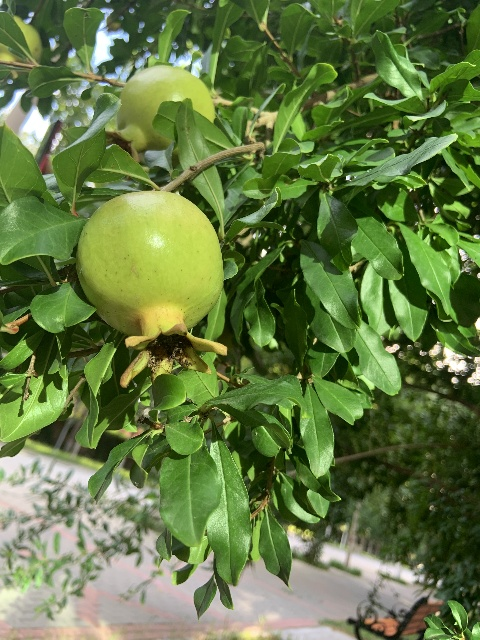mid-growth: (75, 190, 227, 388), (106, 64, 214, 162)
